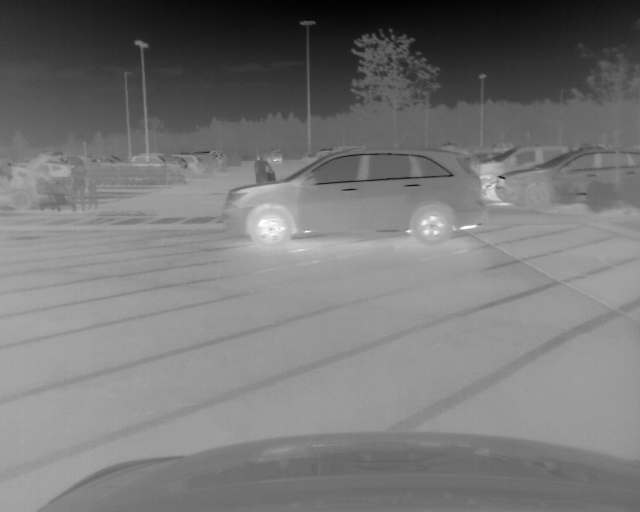car: (223, 145, 491, 244), (494, 147, 640, 209), (475, 142, 584, 203), (2, 168, 55, 211), (130, 155, 189, 183), (179, 154, 206, 181), (264, 148, 283, 166)
people: (68, 160, 87, 211), (82, 160, 101, 207), (253, 154, 271, 183)
